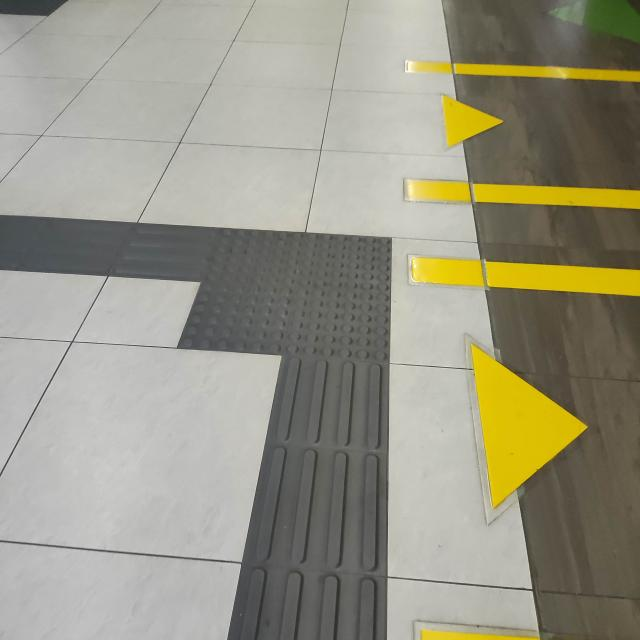kiri: (19, 163, 452, 453)
